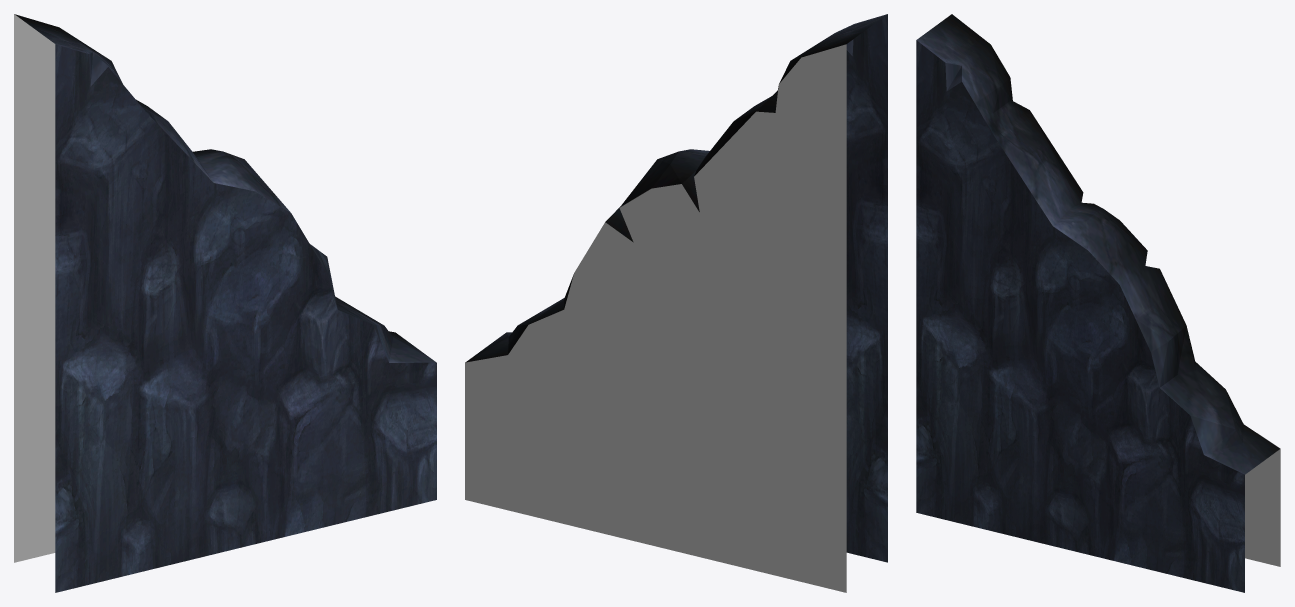
The model's file is mine_broken_tranwall_01.fbx.
3 views of the same model, side by side, from view 1: azimuth 30°, elevation 25°; view 2: azimuth 150°, elevation 25°; view 3: azimuth 330°, elevation 25° (orthographic). The views are drawn at different scales.
Parts seen in each view (by area): view 1: mine_broken_tranwall_01-0; view 2: mine_broken_tranwall_01-0; view 3: mine_broken_tranwall_01-0.
Boxes of the visible parts, x1,y1,x2,y2 form: mine_broken_tranwall_01-0: [14, 14, 436, 592]; mine_broken_tranwall_01-0: [465, 14, 887, 592]; mine_broken_tranwall_01-0: [916, 14, 1280, 592].
Size of the model in its own units: 4 by 5.5 by 0.75.
